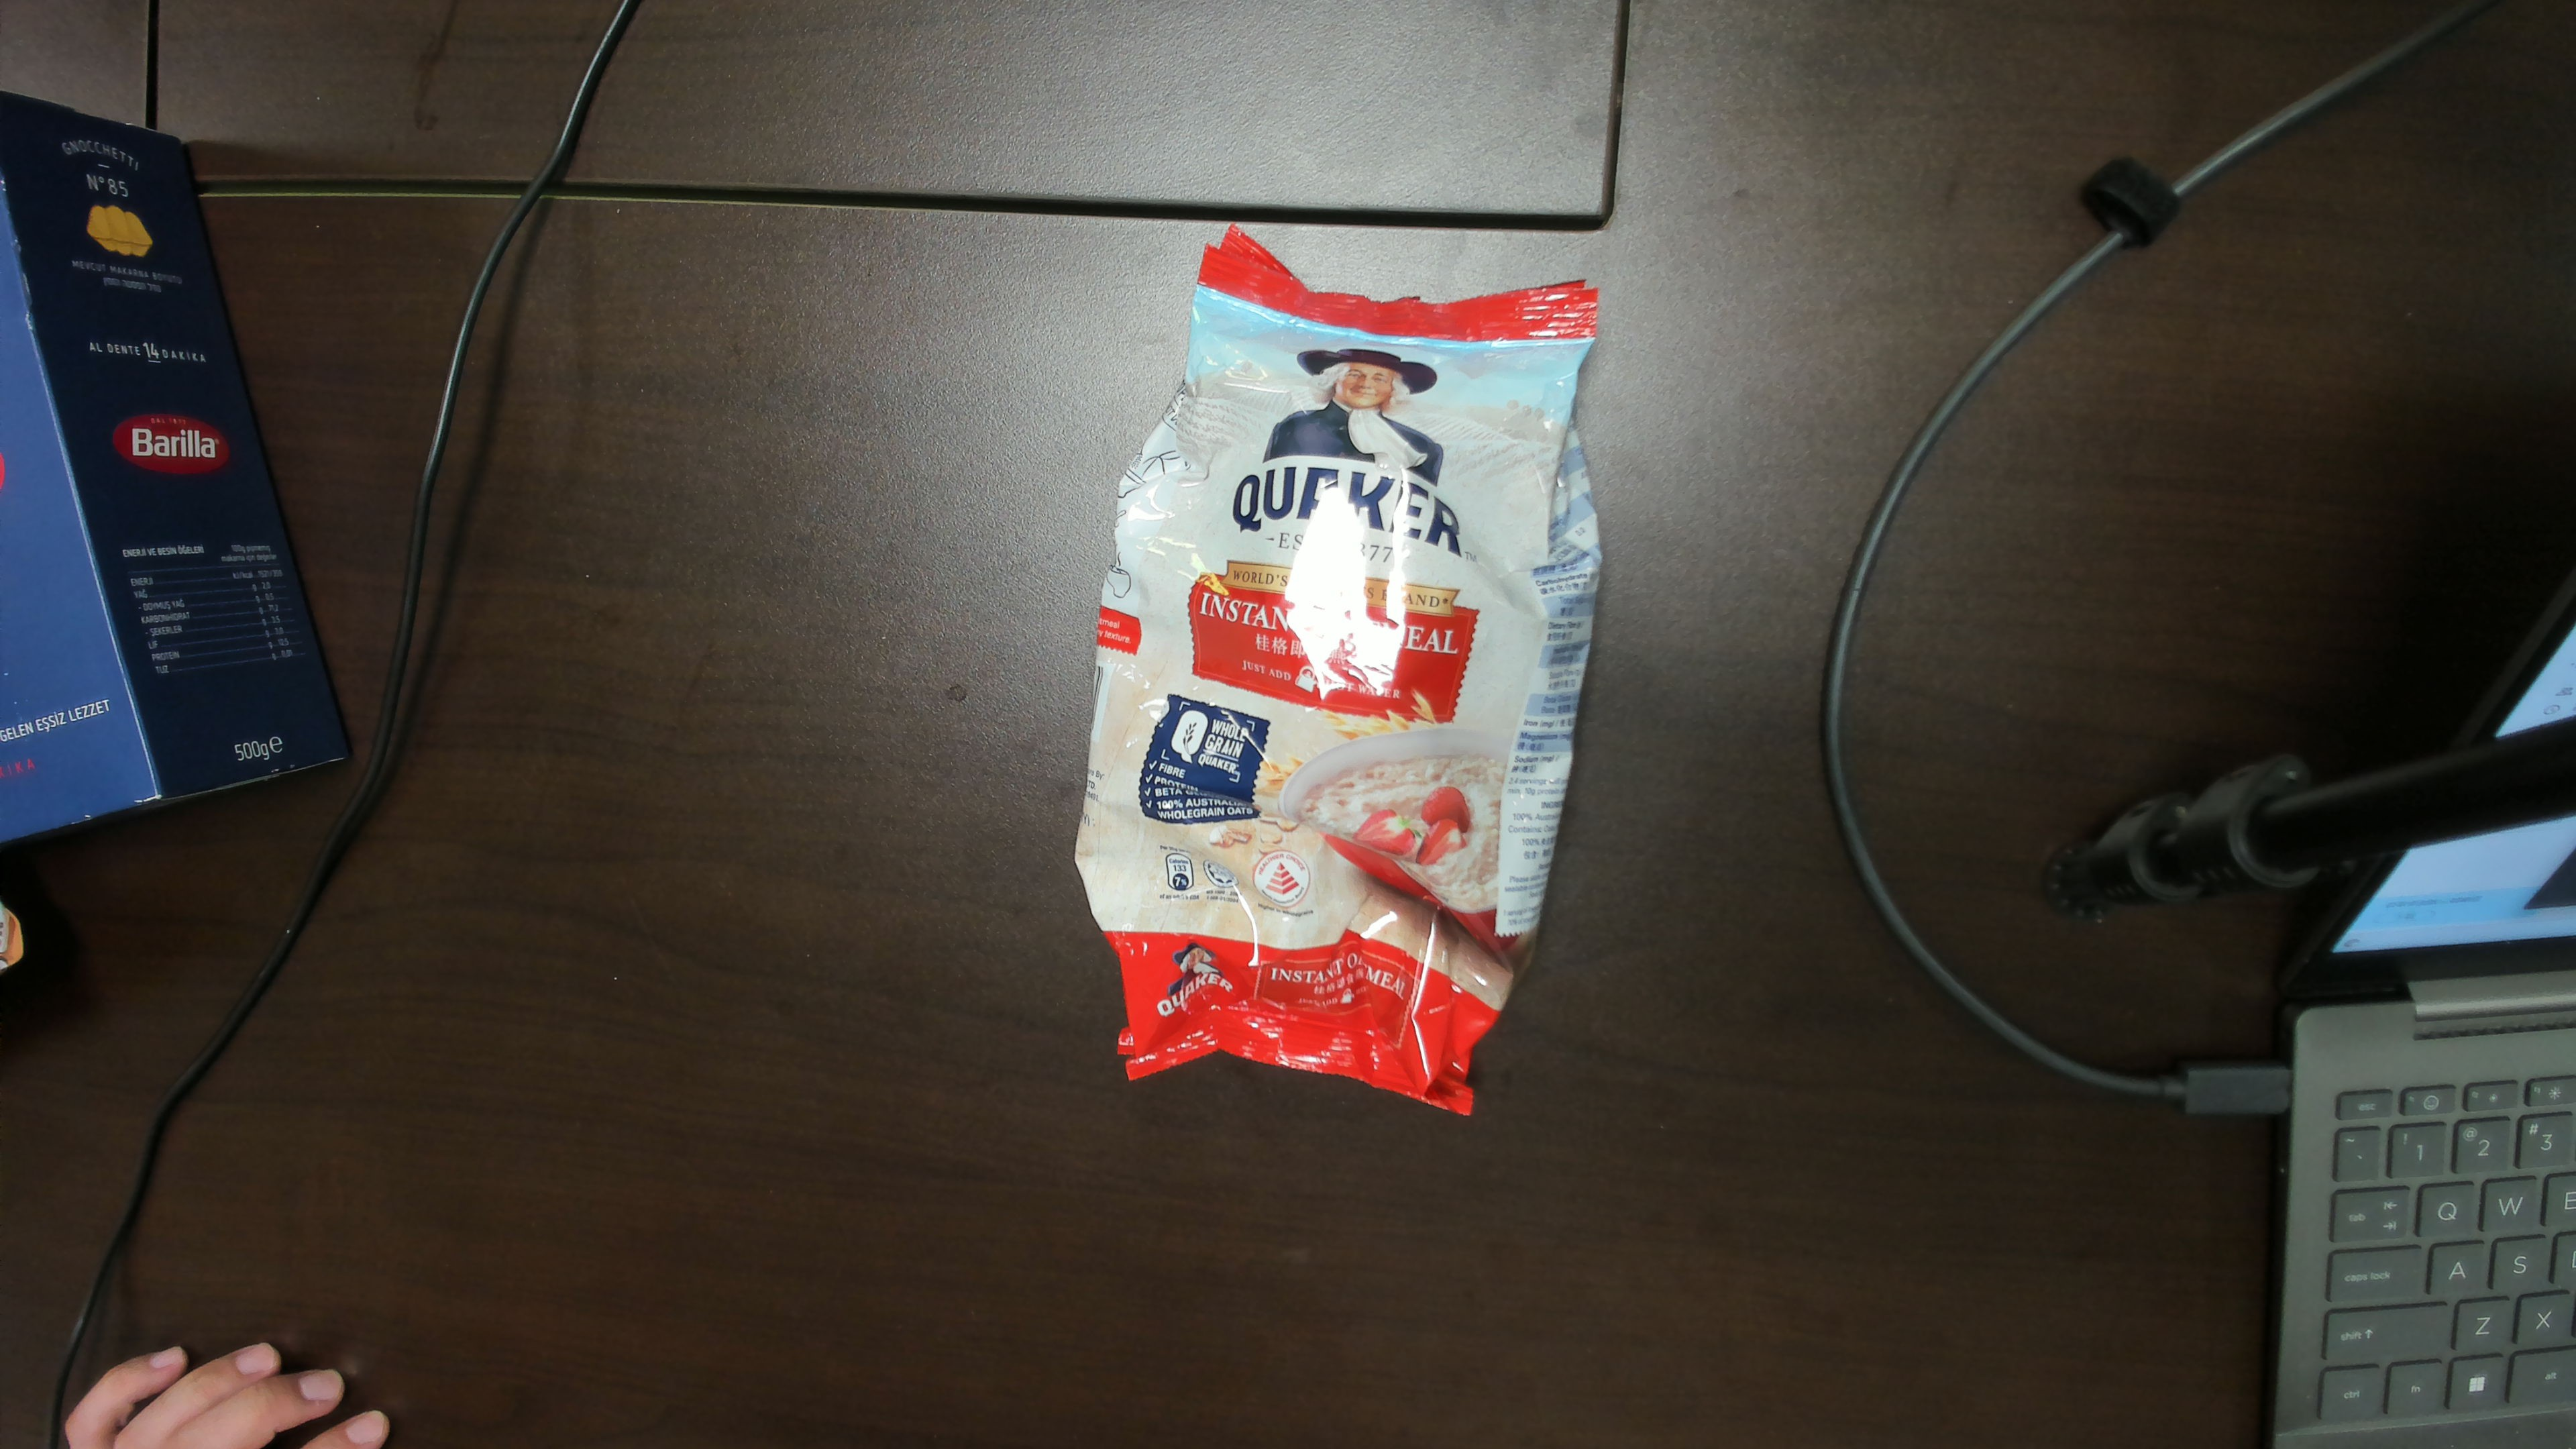RolledOatsInstantOatmeal_400-499g_Halal_Healthy: (1141, 317, 1543, 1021)
